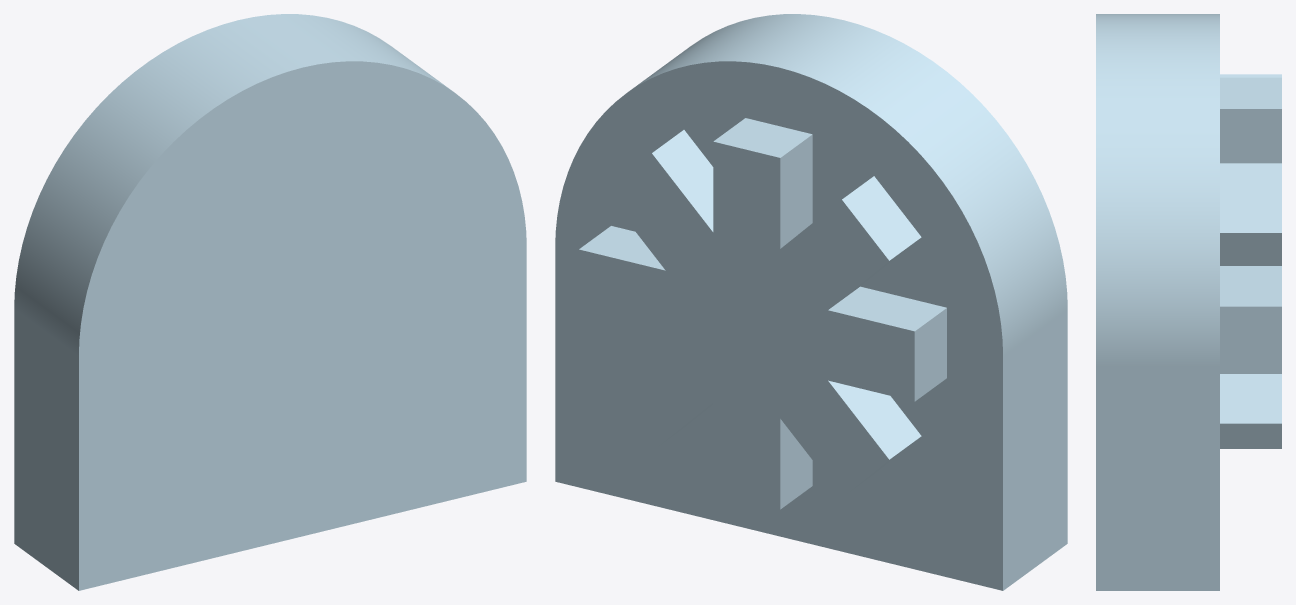
Rendered from multiplier.fbx.
3 views of the same model, side by side, from view 1: azimuth 30°, elevation 25°; view 2: azimuth 150°, elevation 25°; view 3: azimuth 270°, elevation 25° (orthographic). The views are drawn at different scales.
Parts seen in each view (by area): view 1: Part 1; view 2: Part 1; view 3: Part 1.
Part boxes in pixels (bbox=[...]): Part 1: bbox=[14, 14, 526, 590]; Part 1: bbox=[555, 14, 1067, 590]; Part 1: bbox=[1096, 14, 1281, 590].
Size of the model in its own units: 80 by 80 by 30.
